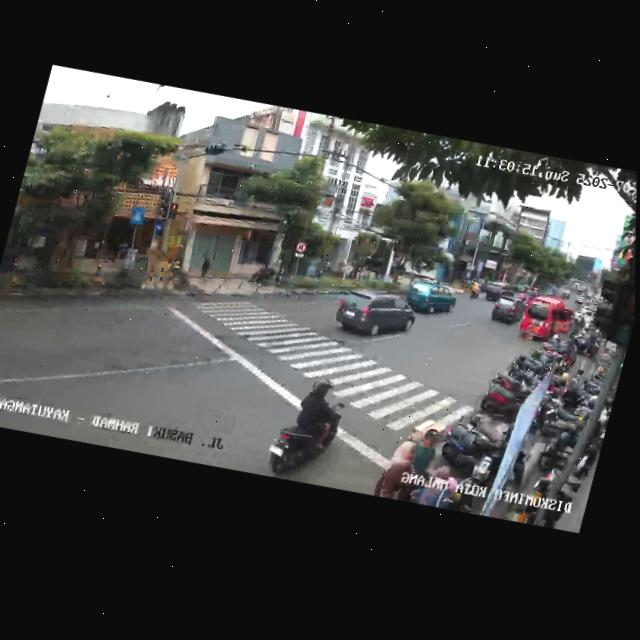car: (326, 278, 418, 354), (516, 291, 575, 351), (400, 274, 459, 322), (488, 293, 527, 330), (479, 276, 515, 307)
motorcycle: (267, 368, 352, 484), (468, 280, 482, 300)
person: (375, 435, 424, 504), (403, 423, 442, 479)
